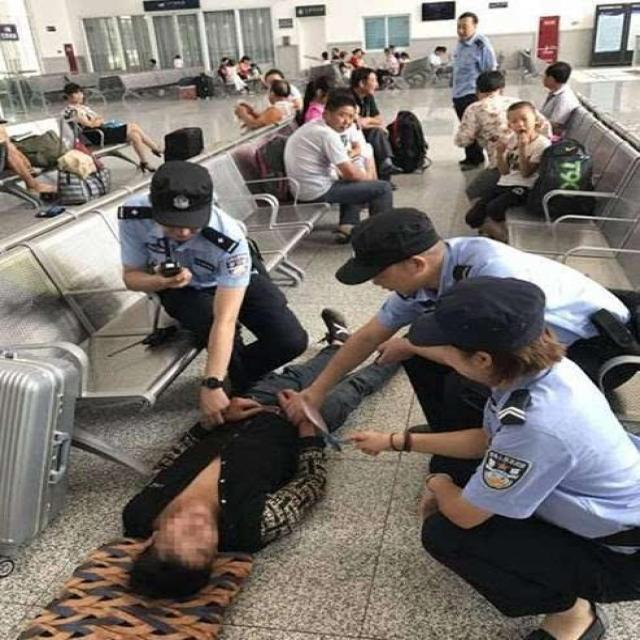10-: (0, 4, 636, 638)
down: (88, 298, 420, 608)
